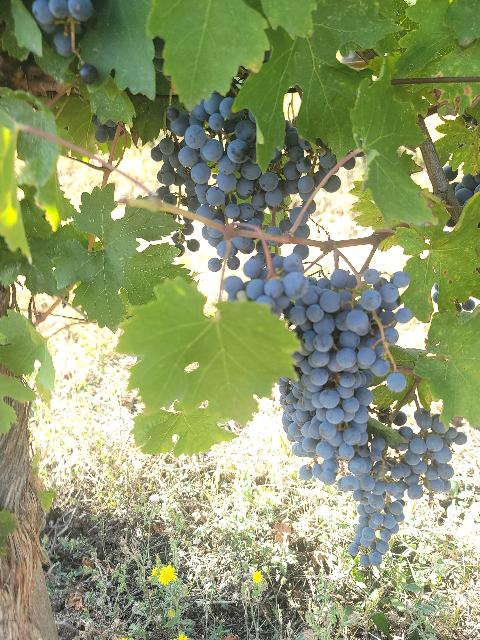grapes: (282, 269, 411, 444), (185, 92, 262, 221), (339, 438, 404, 566), (399, 409, 459, 491), (244, 252, 309, 315)
